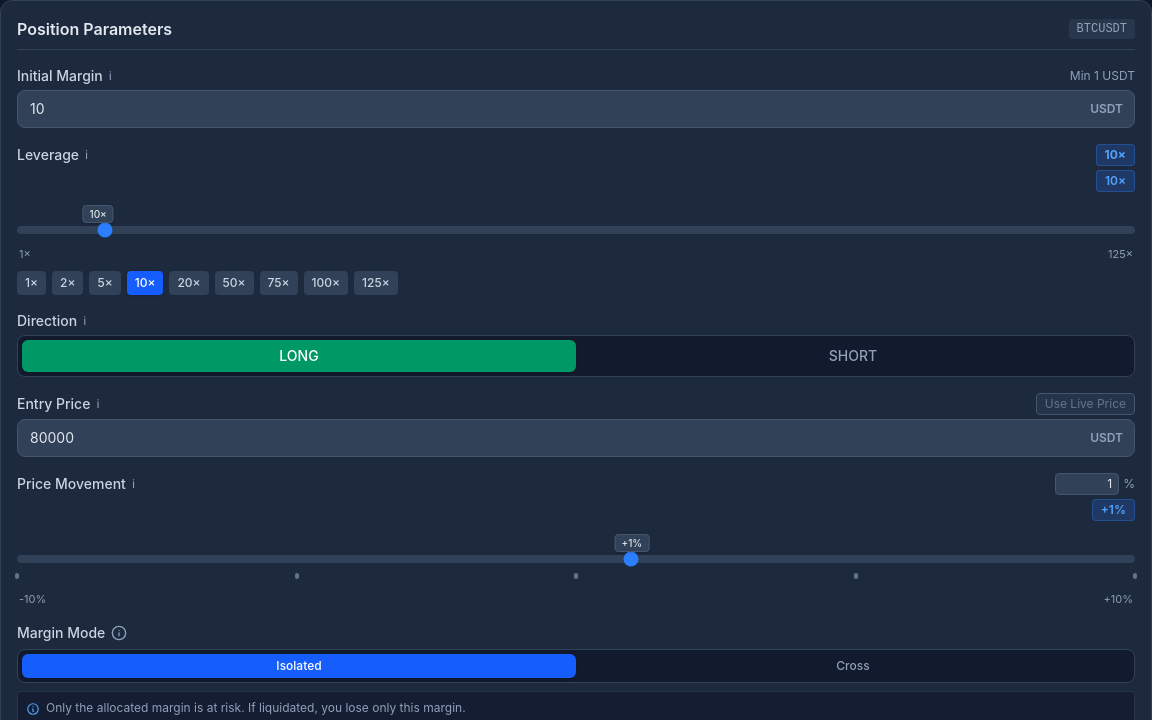
Test: TradingControls › allows clicking leverage quick-select buttons
Click the button "50×": (234, 282) [215,270,254,294]
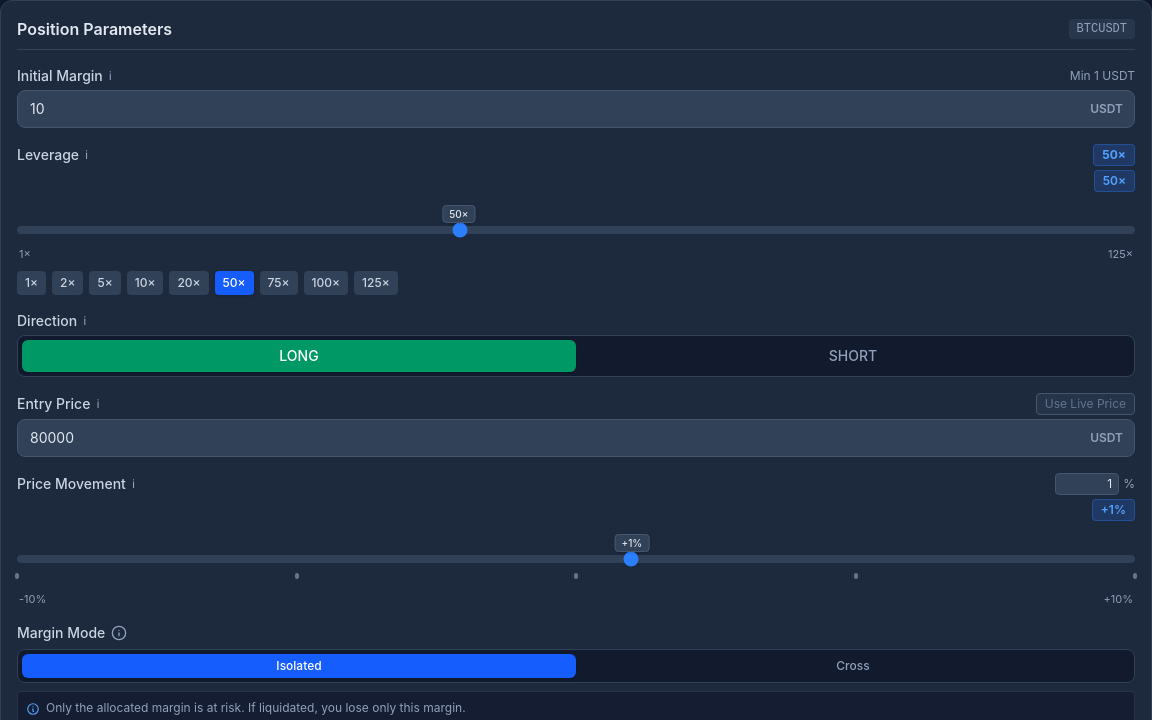
Check: the text "50×" in the row of "Leverage" is shown, box [1093,144,1135,166]
